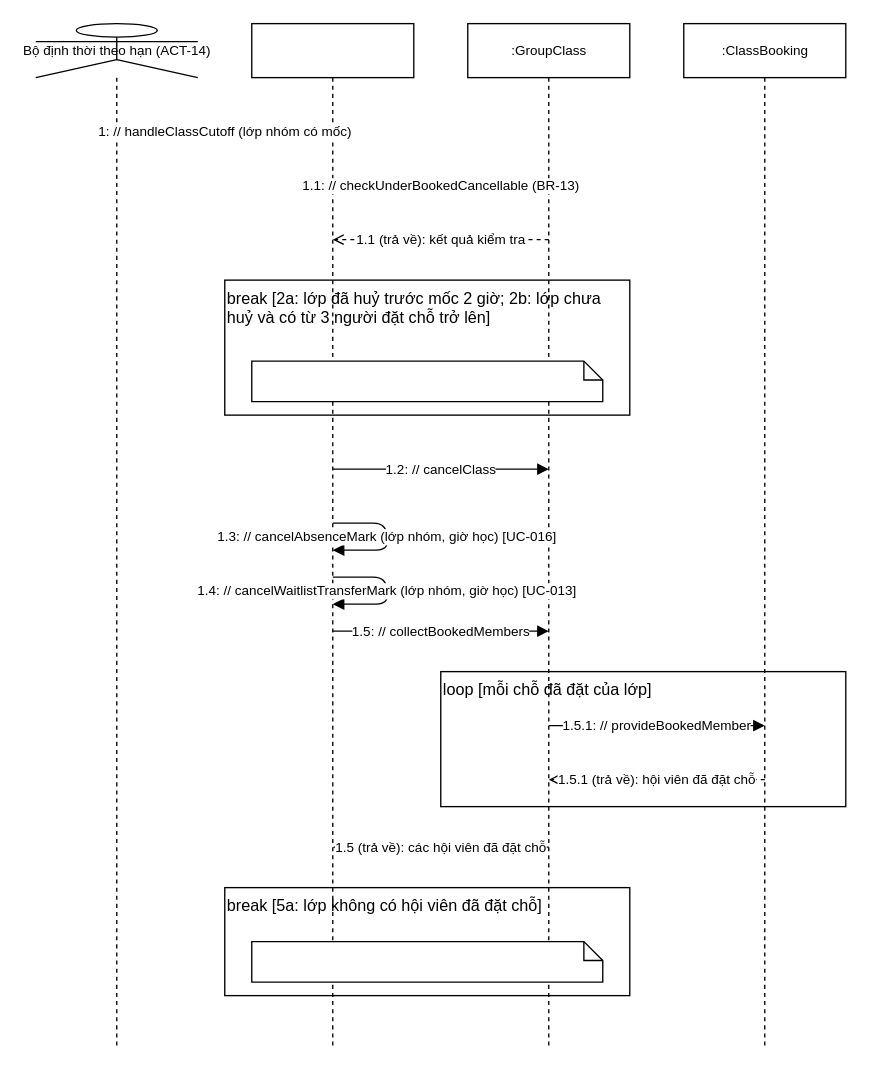
Some shapes in this 869 by 1073 pixel diagram are drawn without their labels. The shapes that lost their labels are listed below. From the top down, each one's centre as x and y in pixels, then its label:
the point at 426,381: kết thúc use case (thất bại), không có thay đổi dữ liệu nào được lưu
the point at 332,536: :CancelUnderBookedClassHandler
the point at 426,961: kết thúc use case (thành công)
